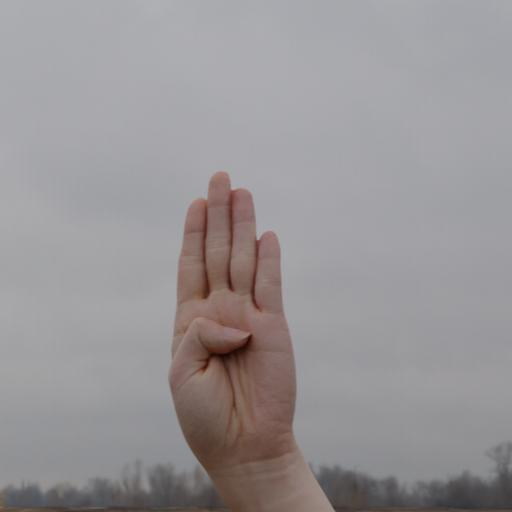B: (163, 165, 302, 473)
